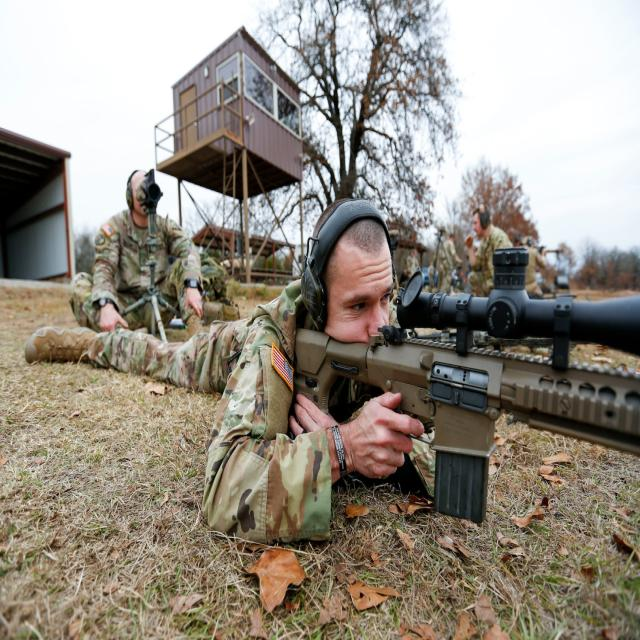Rifle: (293, 248, 640, 525)
